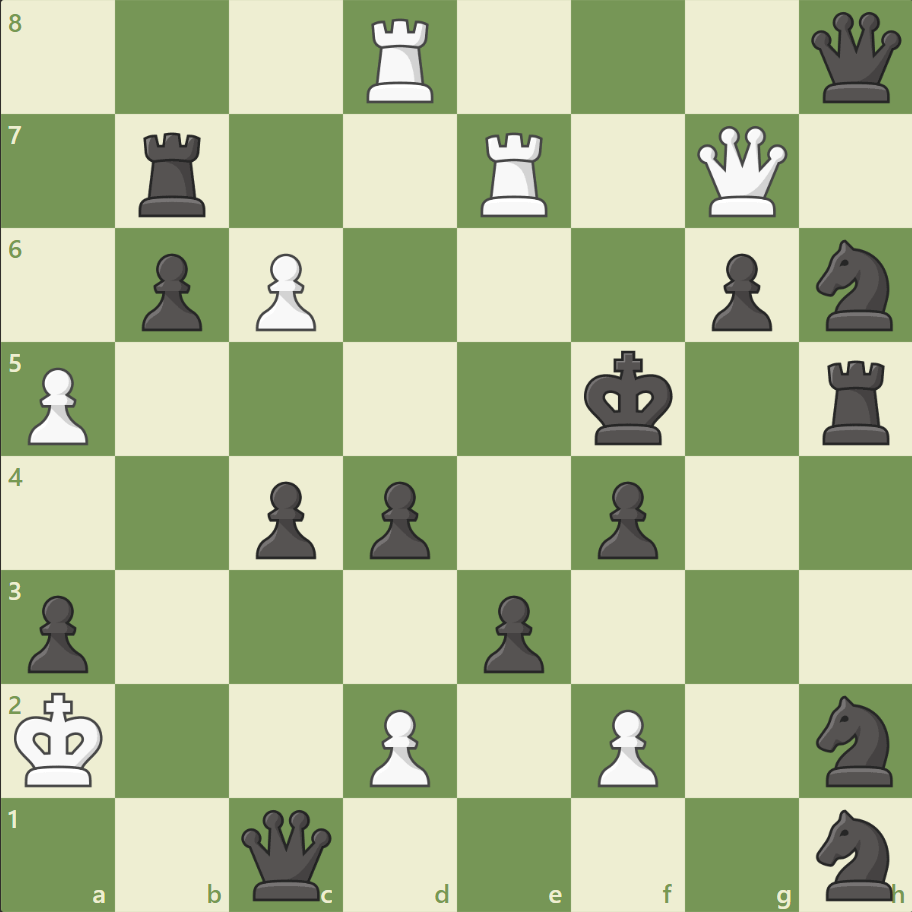K: (11, 685, 111, 793)
P: (247, 246, 322, 337), (20, 359, 95, 450), (361, 700, 435, 791), (588, 700, 662, 791)
Q: (691, 122, 790, 222)
R: (473, 125, 556, 222), (360, 12, 442, 109)
k: (579, 344, 679, 452)
n: (806, 234, 903, 337), (806, 688, 903, 791), (806, 802, 903, 904)
p: (133, 246, 208, 337), (701, 246, 776, 337), (247, 473, 322, 564), (20, 586, 95, 677), (474, 586, 549, 677), (361, 473, 435, 564), (588, 473, 662, 564)
q: (805, 9, 904, 108), (237, 804, 336, 903)
r: (814, 352, 897, 449), (133, 125, 215, 222)
